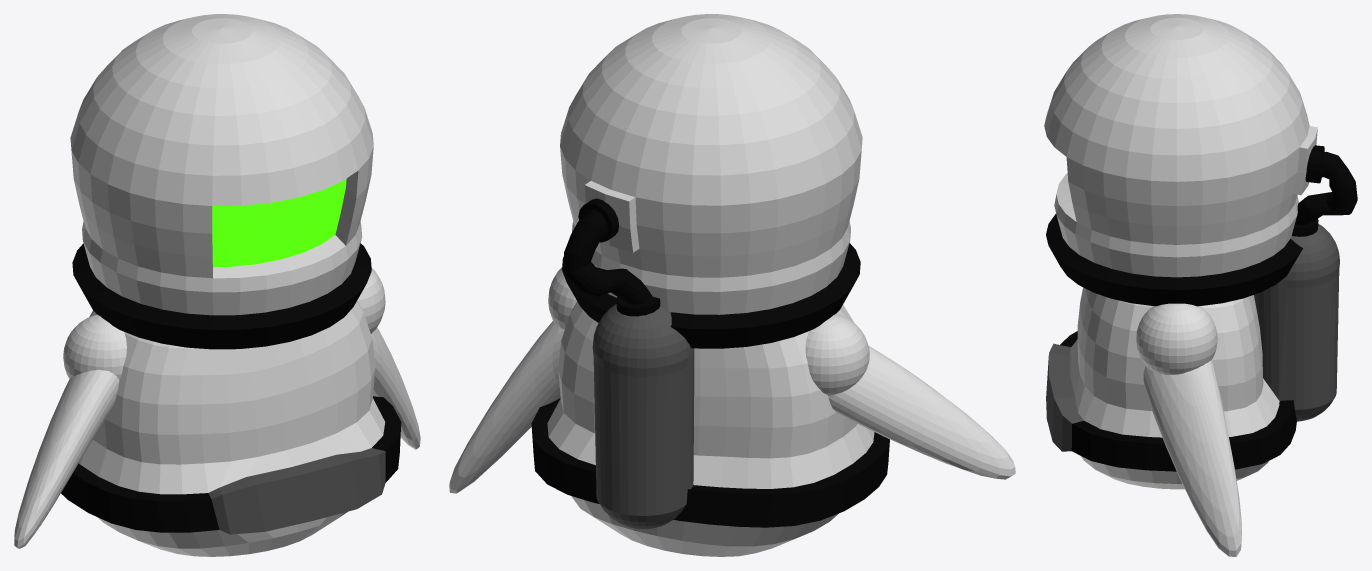
Rendered from player.fbx.
The picture shows the model from 3 angles, left to right: view 1: azimuth 30°, elevation 25°; view 2: azimuth 150°, elevation 25°; view 3: azimuth 270°, elevation 25°; orthographic projection. The views are drawn at different scales.
Parts seen in each view (by area): view 1: PlayerModel; view 2: PlayerModel; view 3: PlayerModel.
Boxes of the visible parts, x1,y1,x2,y2 form: PlayerModel: (14, 14, 420, 556); PlayerModel: (449, 14, 1015, 556); PlayerModel: (1044, 14, 1357, 556).
Size of the model in its own units: 180 by 180 by 115.
